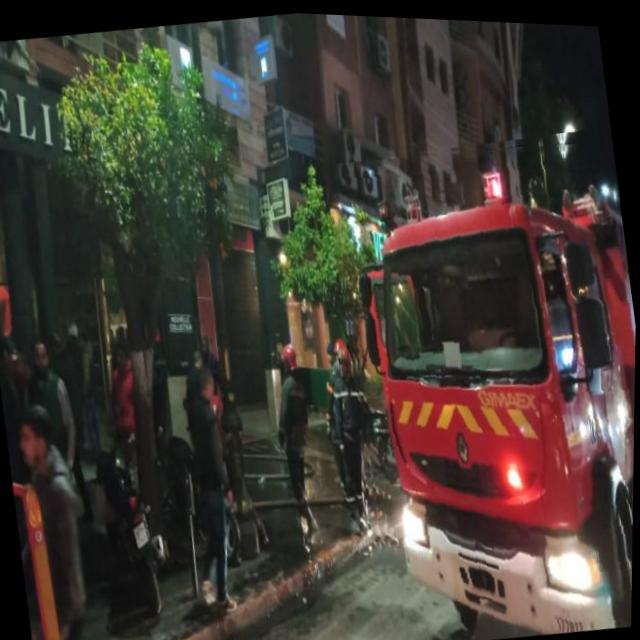Protection Civile: (319, 113, 639, 640)
